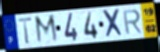4: (83, 11, 100, 41), (64, 12, 79, 43)
M: (33, 13, 60, 46)
R: (121, 8, 143, 36)
T: (17, 16, 34, 46)
X: (101, 8, 126, 39)
